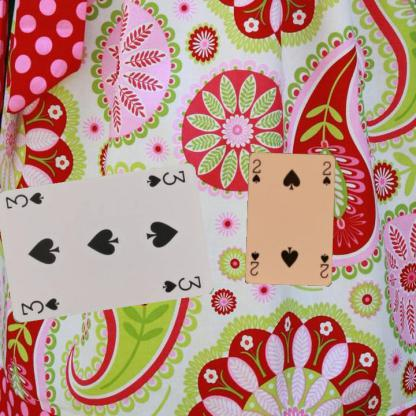2s: (250, 156, 262, 184), (318, 251, 329, 279)
3s: (18, 295, 61, 317), (143, 167, 186, 189)
